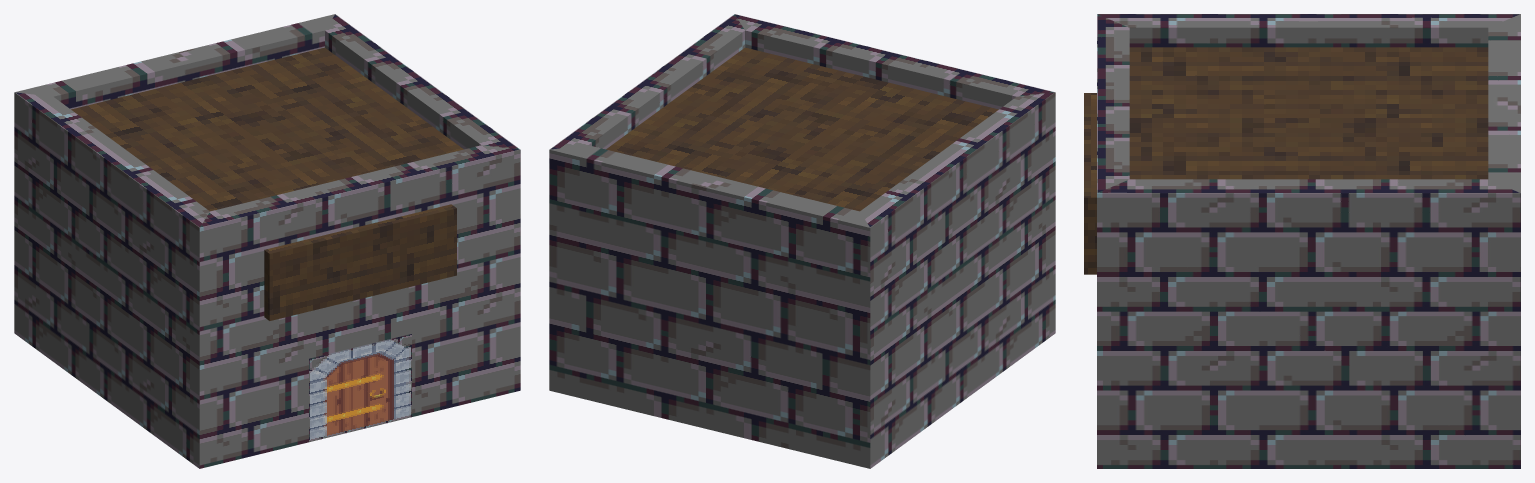
Rendered from HotelChico.fbx.
The picture shows the model from 3 angles, left to right: view 1: azimuth 30°, elevation 25°; view 2: azimuth 150°, elevation 25°; view 3: azimuth 270°, elevation 25°; orthographic projection. The views are drawn at different scales.
Visible parts, largest first — view 1: Cube.002; view 2: Cube.002; view 3: Cube.002.
Part boxes in pixels (left/top/right/bottom): Cube.002: left=14, top=14, right=520, bottom=468; Cube.002: left=549, top=14, right=1055, bottom=468; Cube.002: left=1084, top=14, right=1520, bottom=468.
Size of the model in its own units: 3000 by 2153 by 3091.
